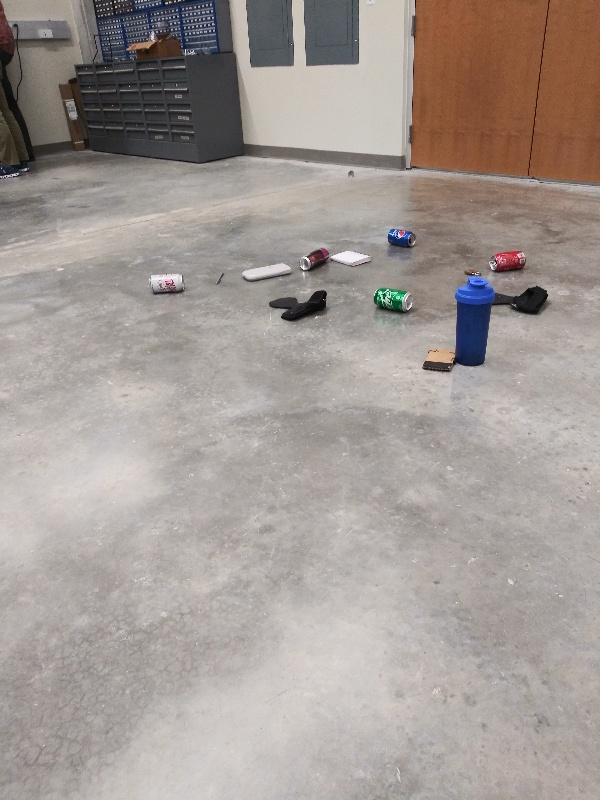can: (371, 284, 415, 313), (486, 249, 530, 273), (298, 245, 333, 273), (146, 272, 189, 294), (384, 224, 419, 249)
